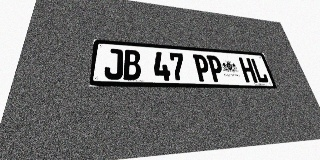4: (153, 51, 171, 81)
7: (168, 53, 187, 81)
B: (123, 49, 141, 80)
H: (238, 57, 258, 83)
J: (104, 48, 123, 80)
L: (250, 58, 269, 83)
P: (193, 54, 212, 82), (206, 55, 225, 82)
